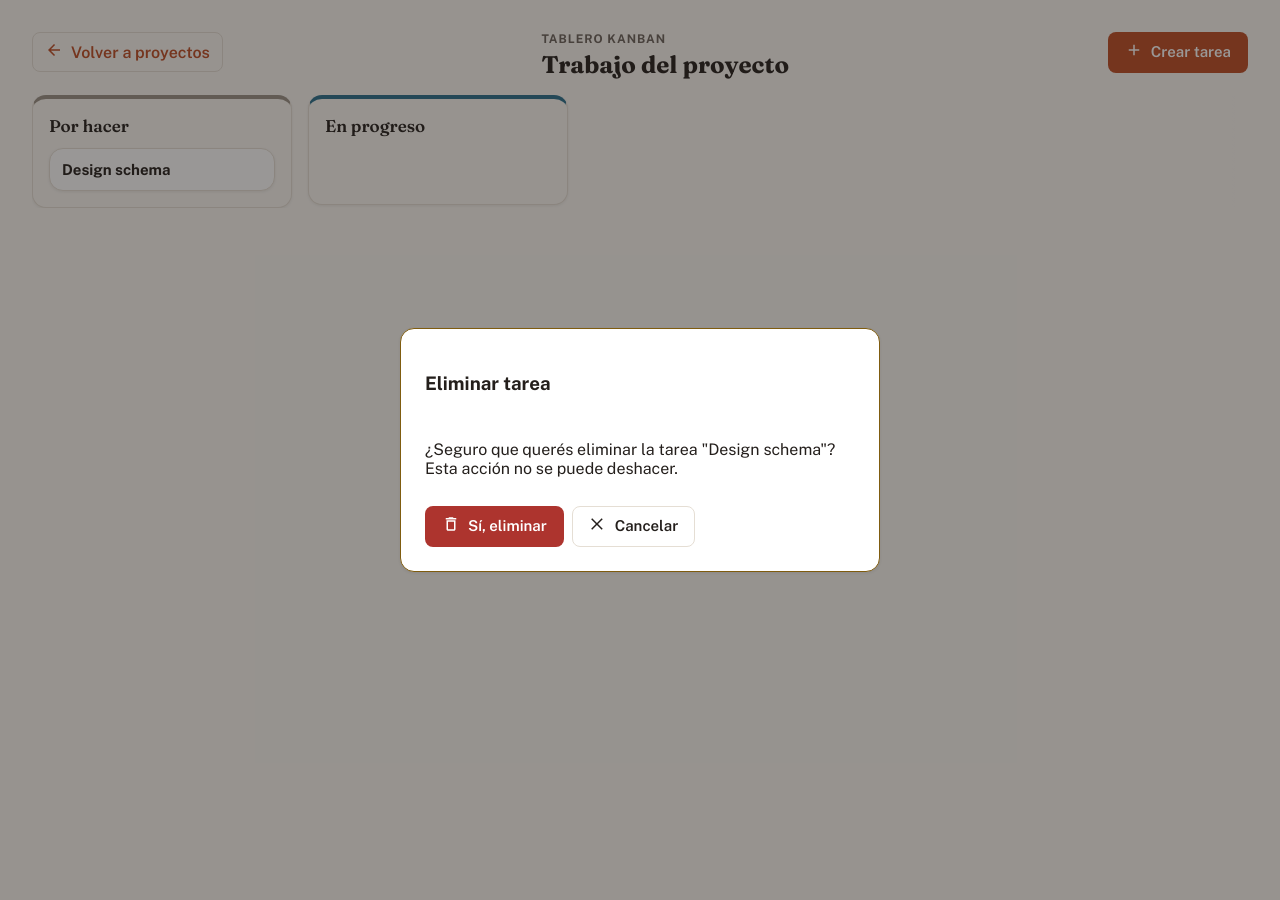
it: BoardComponent › deletes only after confirmation and closes the dialog
The image size is (1280, 900).
Click the button "Sí, eliminar". click: (494, 527)
box: [425,506,564,547]
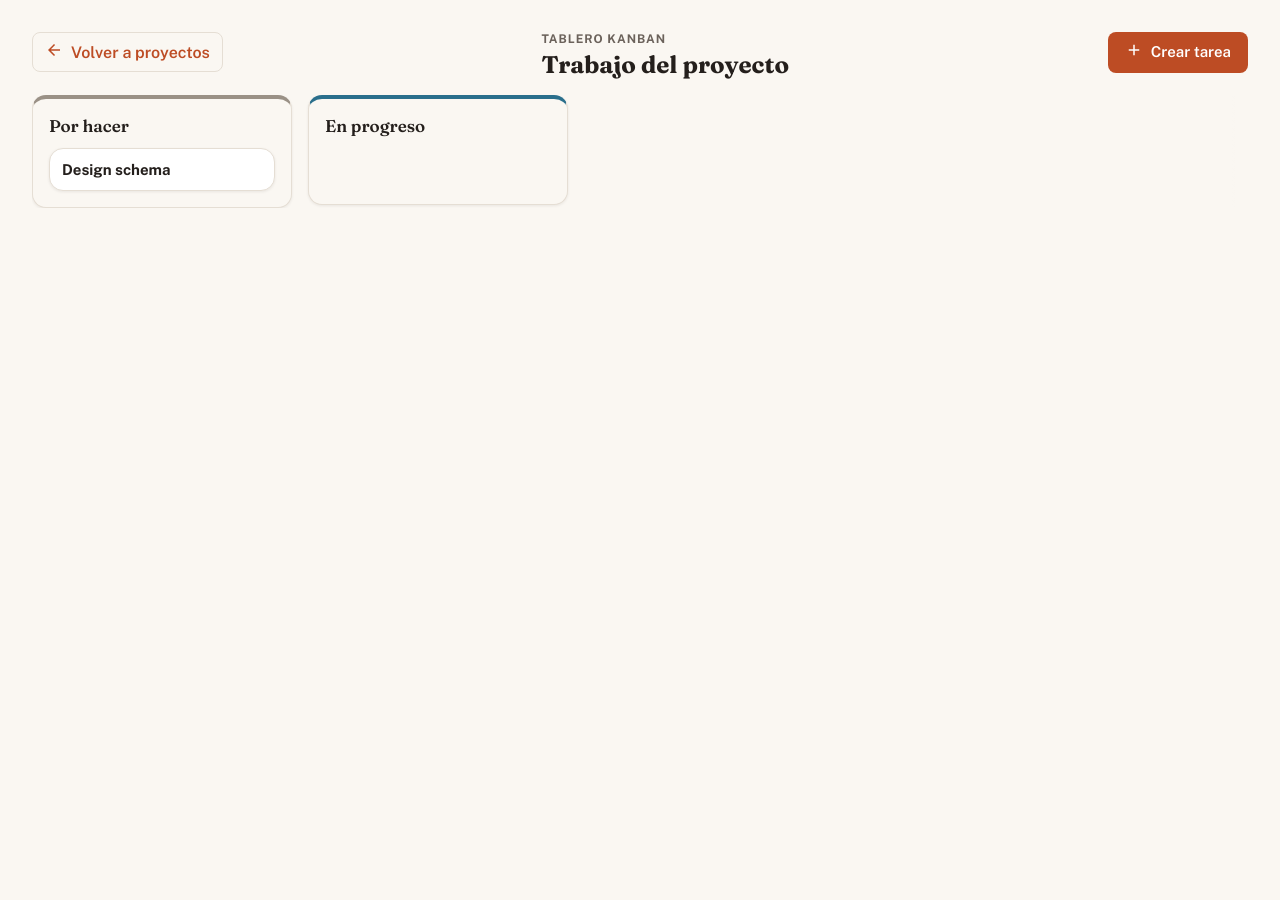
Expected: the element with test id "delete-dialog" is gone
